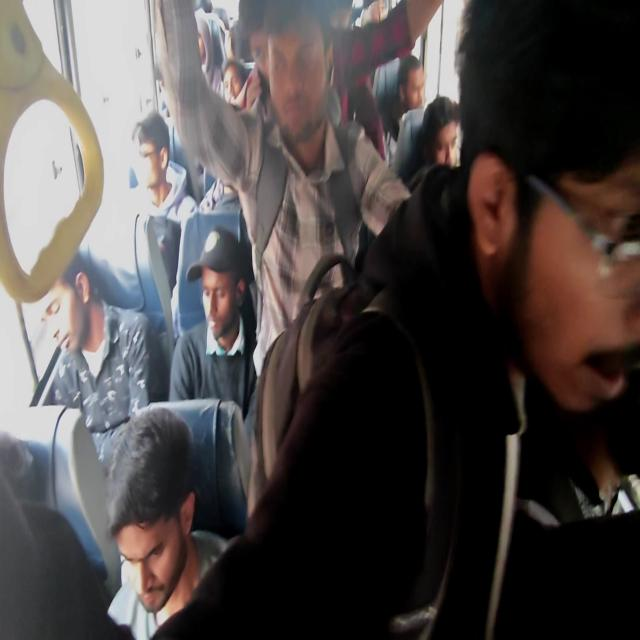person: (148, 1, 638, 637), (152, 0, 430, 380), (104, 407, 231, 638), (38, 249, 163, 472), (79, 110, 197, 326), (168, 225, 258, 417), (131, 110, 196, 224), (404, 95, 460, 189)
